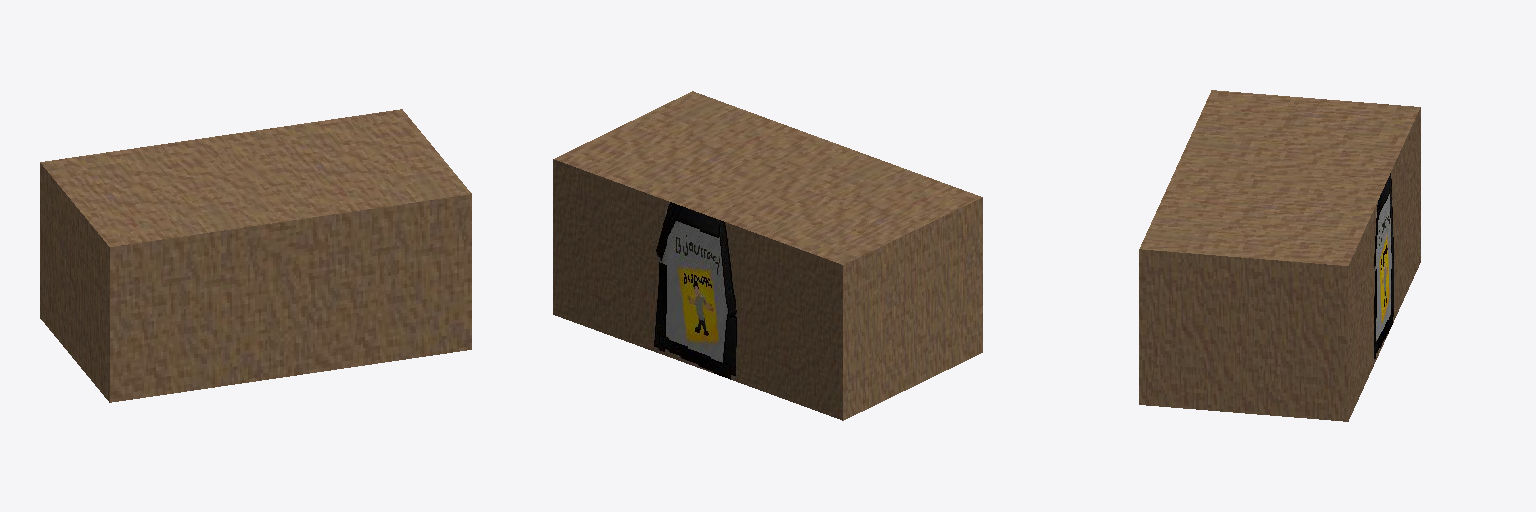
3 renders of one model, left to right at view 1: azimuth 30°, elevation 25°; view 2: azimuth 150°, elevation 25°; view 3: azimuth 270°, elevation 25°, orthographic.
Visible parts, largest first — view 1: Cube.003_Cube.004; view 2: Cube.003_Cube.004; view 3: Cube.003_Cube.004.
Boxes of the visible parts, <box> form: Cube.003_Cube.004: <box>40,109,471,402</box>; Cube.003_Cube.004: <box>553,91,982,420</box>; Cube.003_Cube.004: <box>1139,90,1420,421</box>.
Bounding box in the file's own units: 0.8791 × 0.3623 × 0.5935.
Materials: 2 (2 with a texture image).